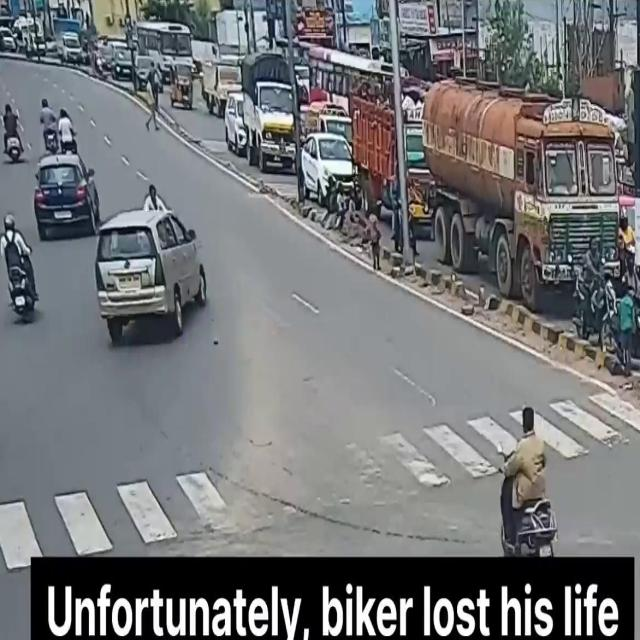accident: (83, 170, 225, 354)
non_accident: (417, 72, 640, 376), (299, 46, 417, 253), (0, 0, 208, 108), (208, 39, 296, 177)
